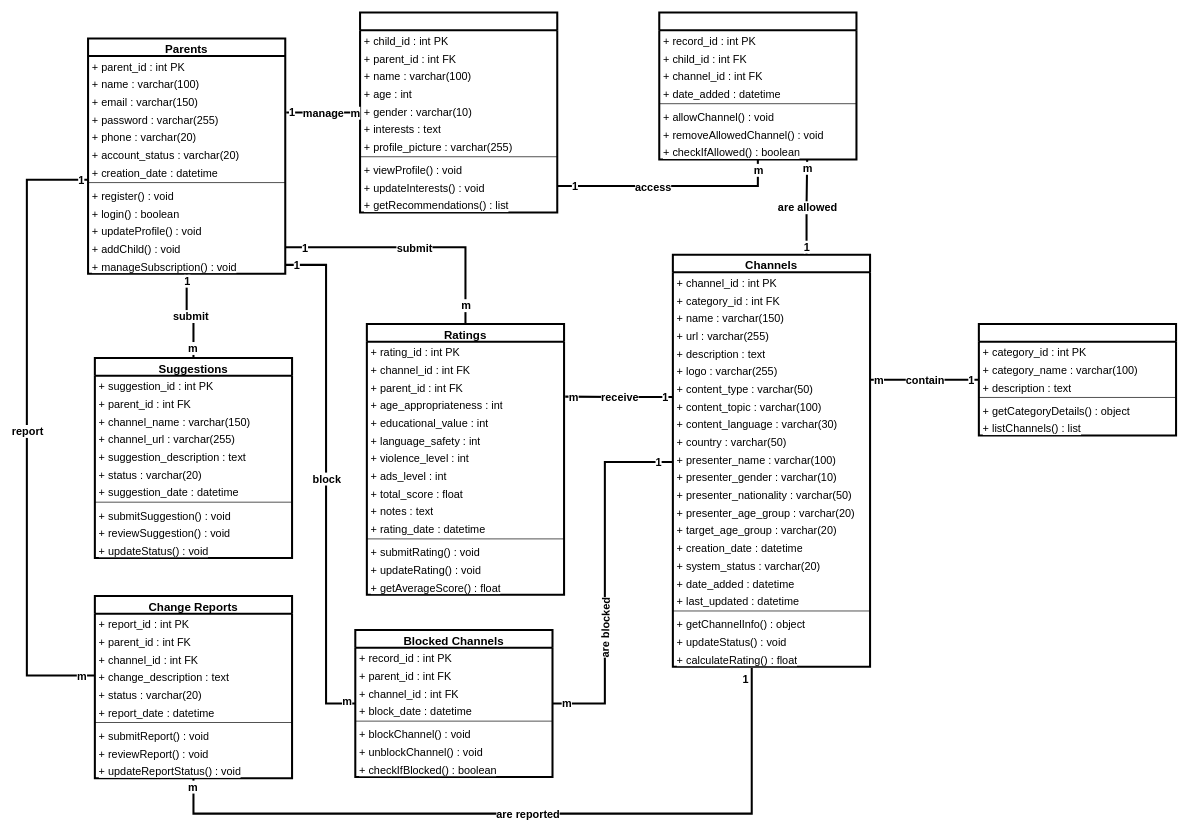
The diagram is 1189 pixels wide and 832 high, and some of its shapes have lost their labels. The box of each missing label's shape, as (x1, y1, x2, y2) in pixels:
Allowed Channels: (658, 11, 857, 160)
Categories: (978, 323, 1177, 436)
Children: (359, 11, 558, 213)
